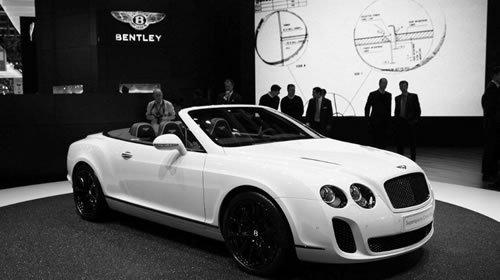car: (54, 97, 448, 278)
